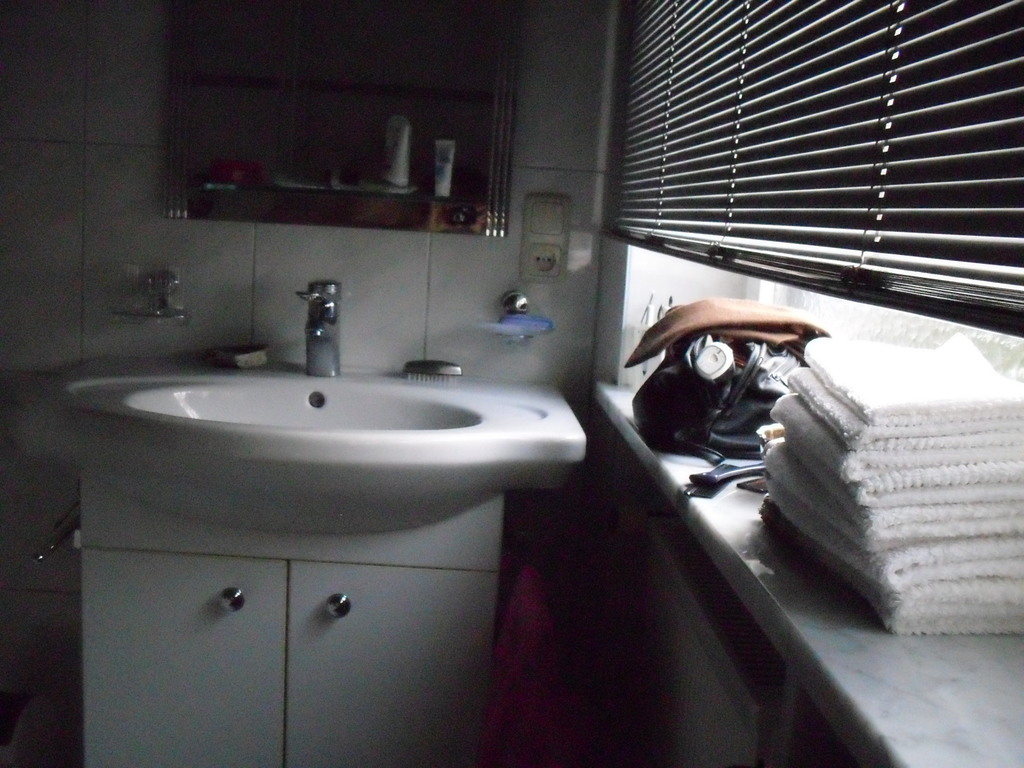tap: (292, 278, 343, 376)
